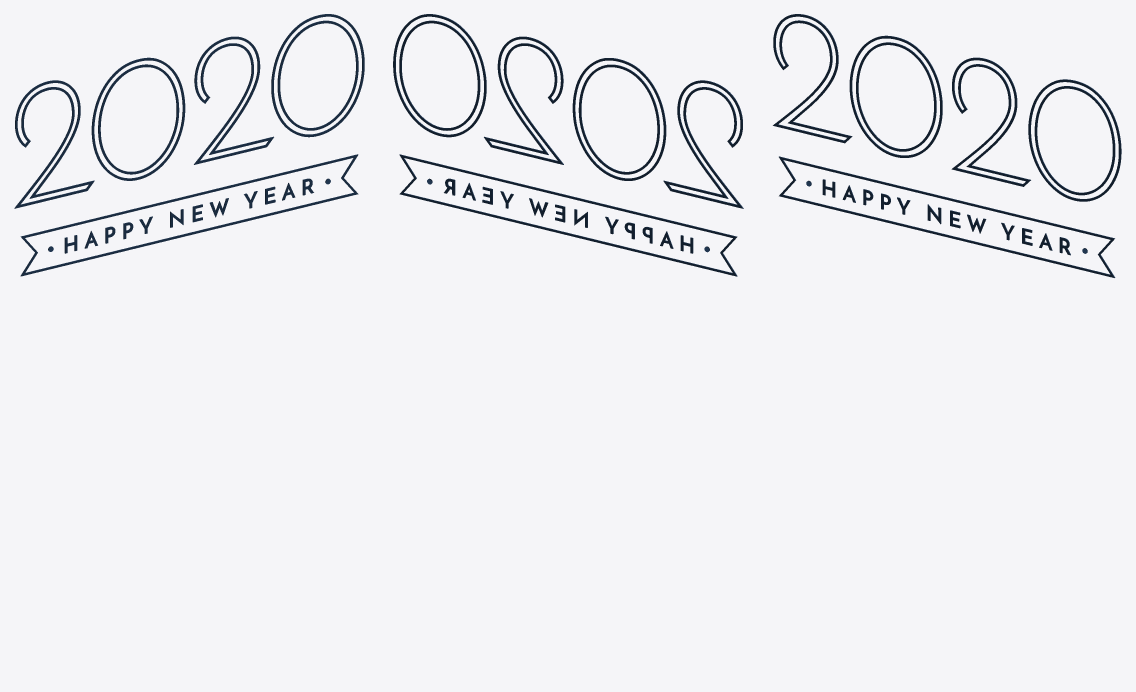
File: HappyNewYear2020_Text.gltf
The picture shows the model from 3 angles, left to right: view 1: azimuth 30°, elevation 25°; view 2: azimuth 150°, elevation 25°; view 3: azimuth 330°, elevation 25°; orthographic projection.
Visible parts, largest first — view 1: 2020_text_vector; view 2: 2020_text_vector; view 3: 2020_text_vector.
Part boxes in pixels (x1,y1,x2,y2): 2020_text_vector: (14,14,364,276); 2020_text_vector: (393,14,743,276); 2020_text_vector: (773,14,1121,277).
Size of the model in its own units: 1.59 by 2.72 by 0.07.
Materials: 1 (1 with a texture image).
